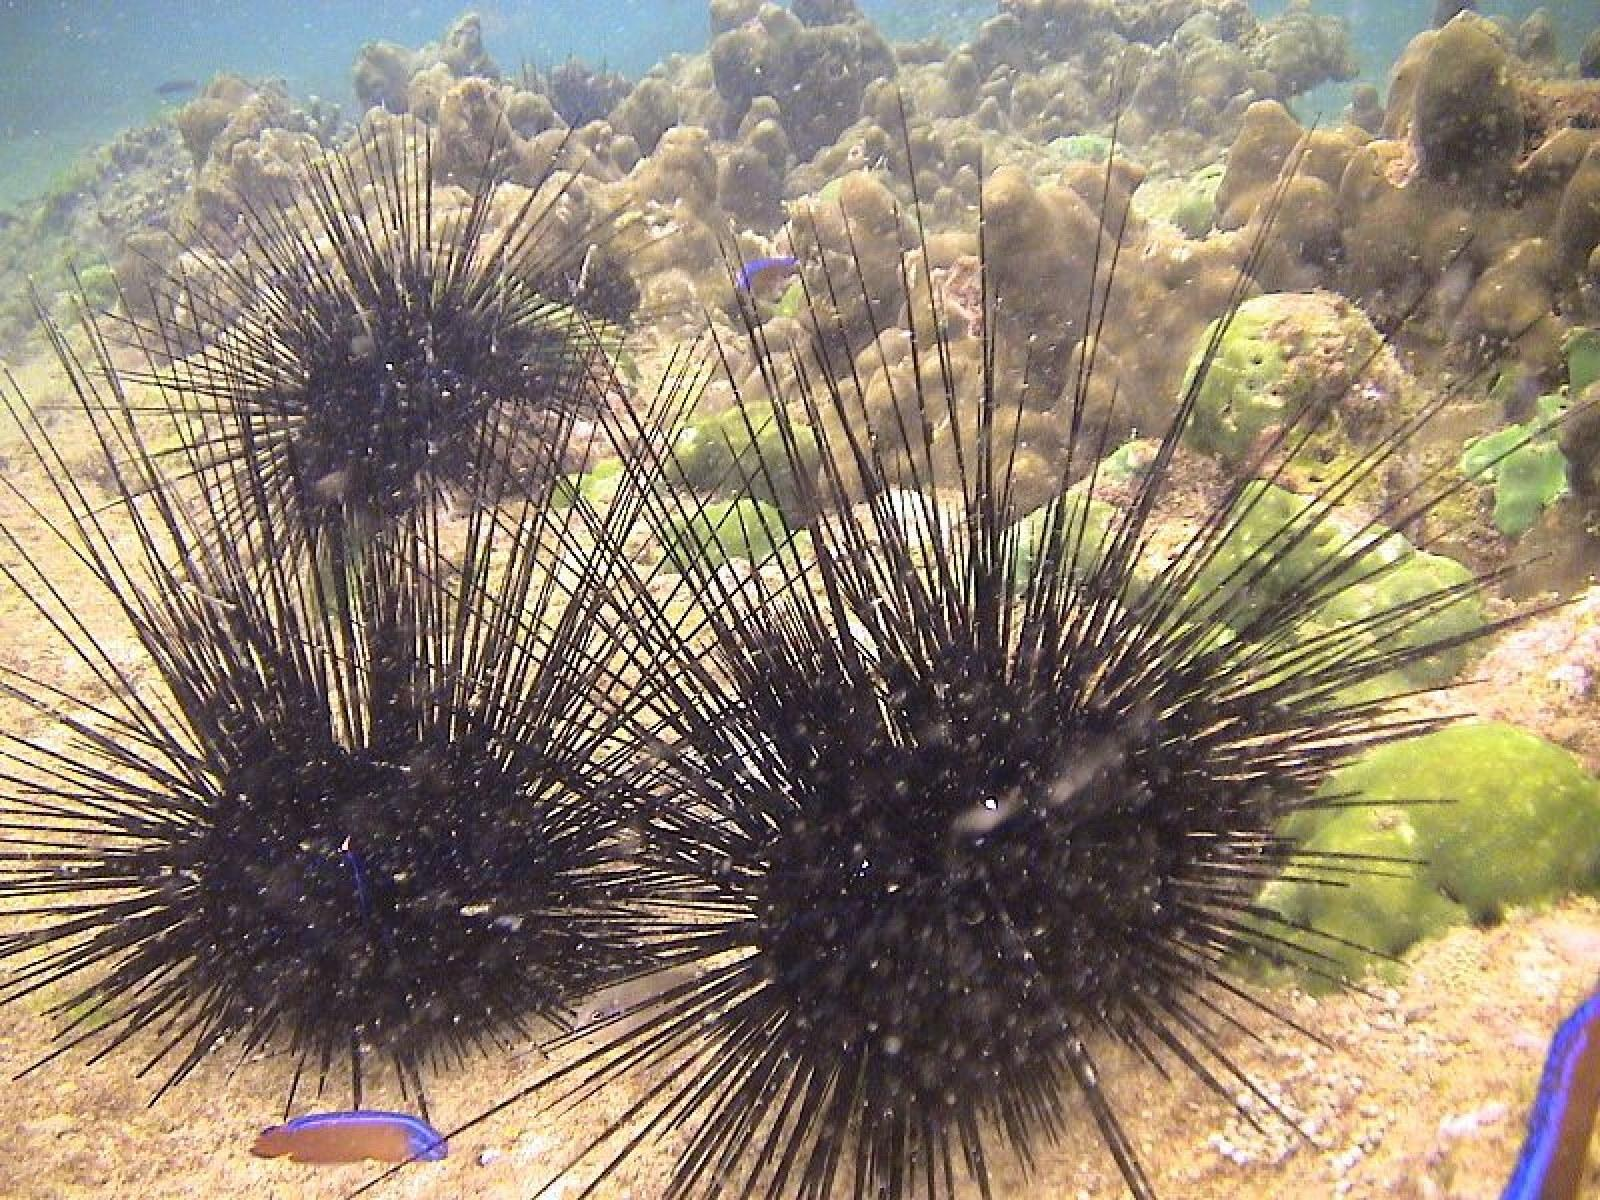urchin: (333, 48, 1600, 1200), (0, 170, 679, 1132), (38, 59, 703, 577)
